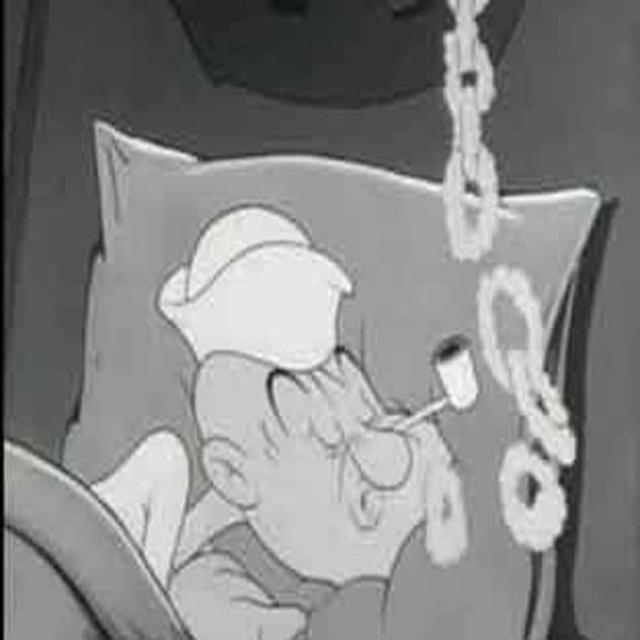smoking: (187, 280, 575, 583)
